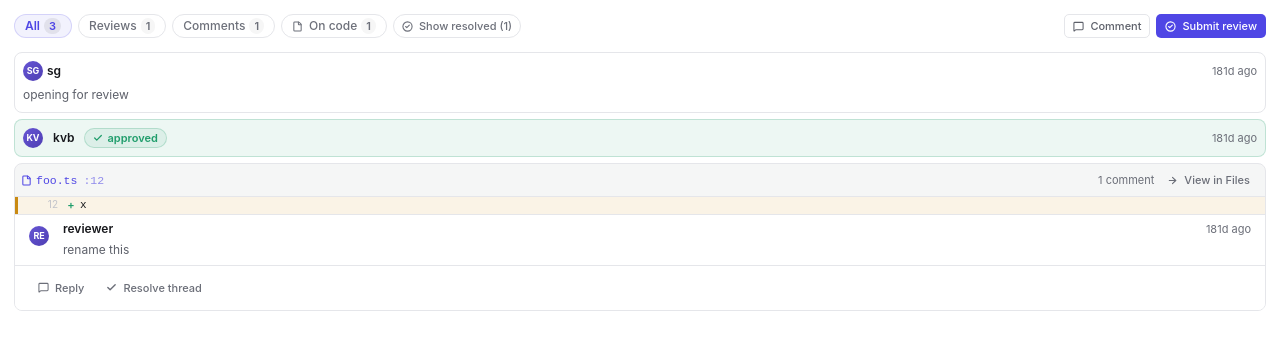
Test: DiscussionTab › Show resolved toggle reveals resolved code threads
Click the button "Show resolved (1)": (457, 26) [393,14,521,38]
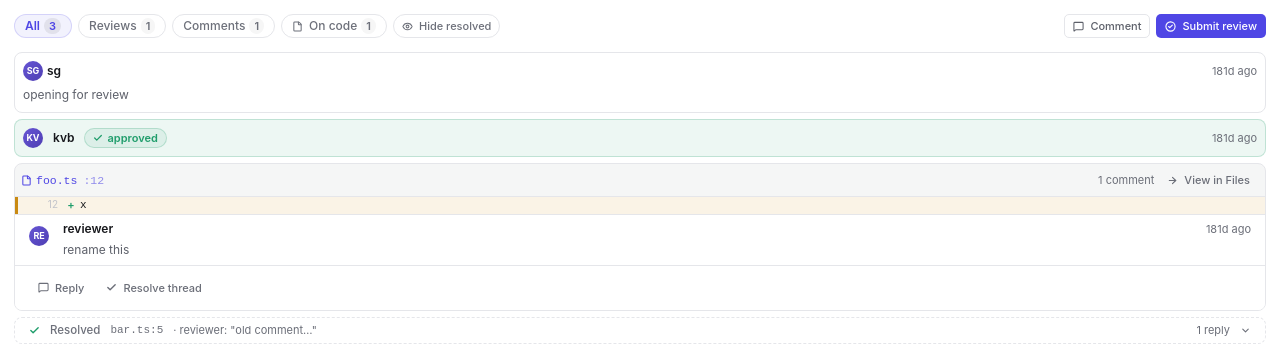
Check: the text "· reviewer: \"old comment…\"" is shown, box [173,323,317,337]
